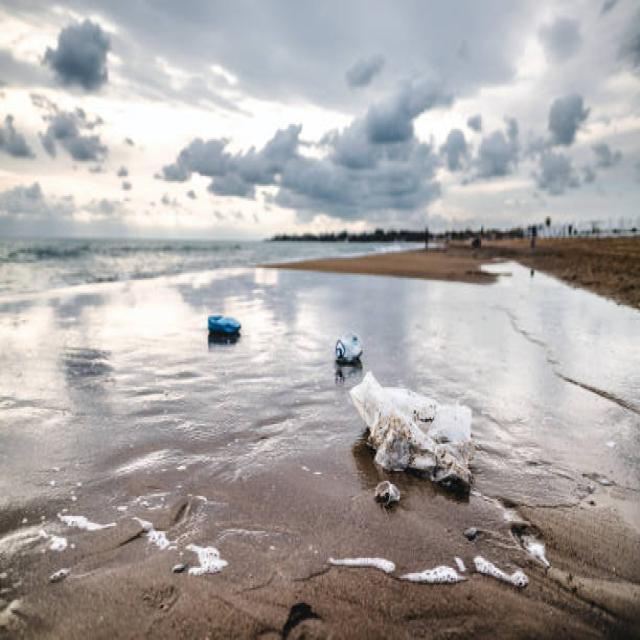garbage: (341, 362, 477, 502), (188, 295, 252, 347), (317, 332, 370, 371)
